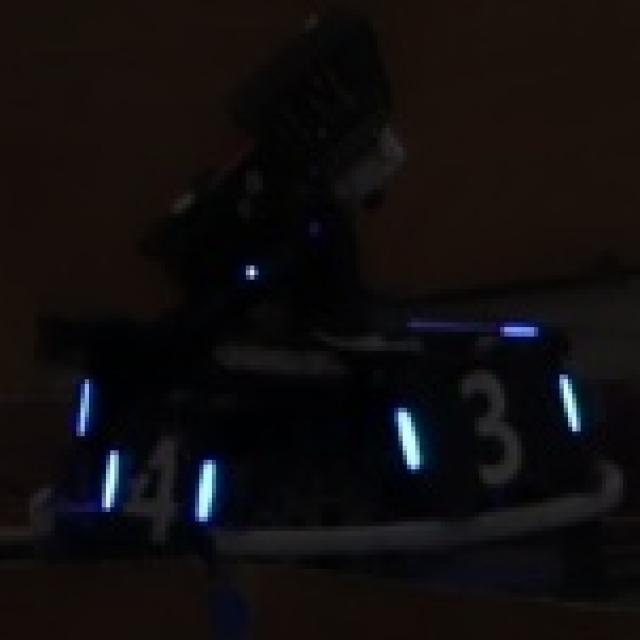B3: (390, 361, 589, 488)
B4: (98, 432, 216, 540)
